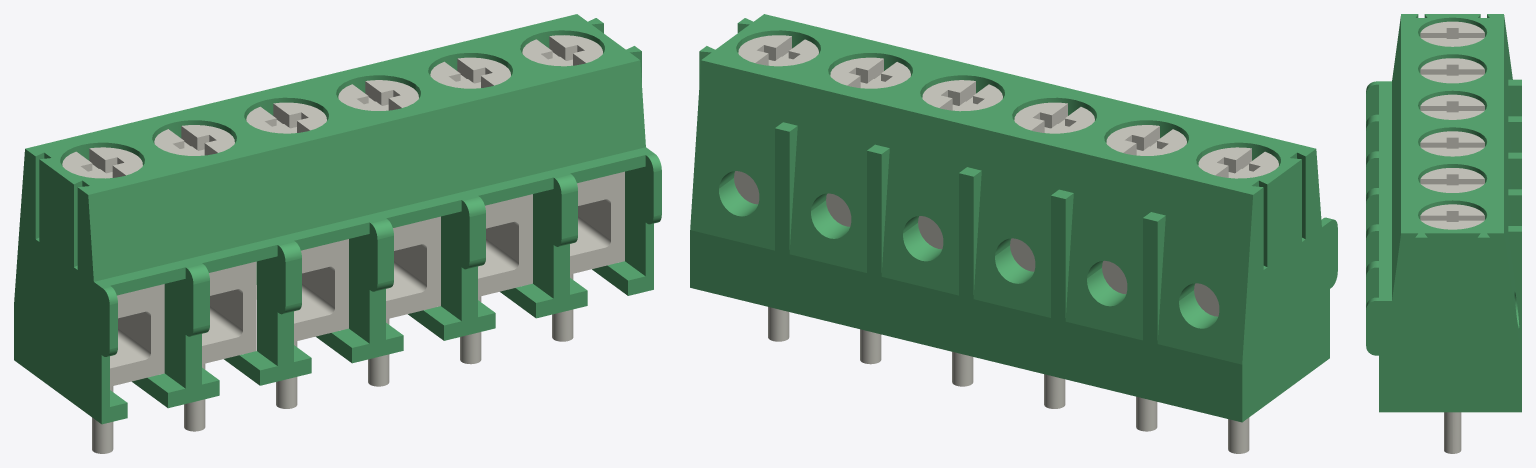
Rendered from kc-terminalblock_phoenix_pt-1_5-6-5.0-h_1x06_p5.00mm_horizontal.glb.
3 views of the same model, side by side, from view 1: azimuth 30°, elevation 25°; view 2: azimuth 150°, elevation 25°; view 3: azimuth 270°, elevation 25° (orthographic). The views are drawn at different scales.
Parts seen in each view (by area): view 1: 0.08333333333333333_0.4166666666666667_0.16666666666666666_0, 0.6666666666666666_0.6666666666666666_0.5833333333333334_0.8; view 2: 0.08333333333333333_0.4166666666666667_0.16666666666666666_0, 0.6666666666666666_0.6666666666666666_0.5833333333333334_0.8; view 3: 0.08333333333333333_0.4166666666666667_0.16666666666666666_0, 0.6666666666666666_0.6666666666666666_0.5833333333333334_0.8.
Boxes of the visible parts, x1=… form: 0.08333333333333333_0.4166666666666667_0.16666666666666666_0: x1=14, y1=14, x2=661, y2=424; 0.6666666666666666_0.6666666666666666_0.5833333333333334_0.8: x1=62, y1=35, x2=624, y2=453; 0.08333333333333333_0.4166666666666667_0.16666666666666666_0: x1=690, y1=14, x2=1337, y2=422; 0.6666666666666666_0.6666666666666666_0.5833333333333334_0.8: x1=734, y1=35, x2=1278, y2=453; 0.08333333333333333_0.4166666666666667_0.16666666666666666_0: x1=1366, y1=14, x2=1521, y2=412; 0.6666666666666666_0.6666666666666666_0.5833333333333334_0.8: x1=1420, y1=21, x2=1484, y2=453.
Bounding box in the file's own units: 3.06 × 1.5 × 0.8998.
